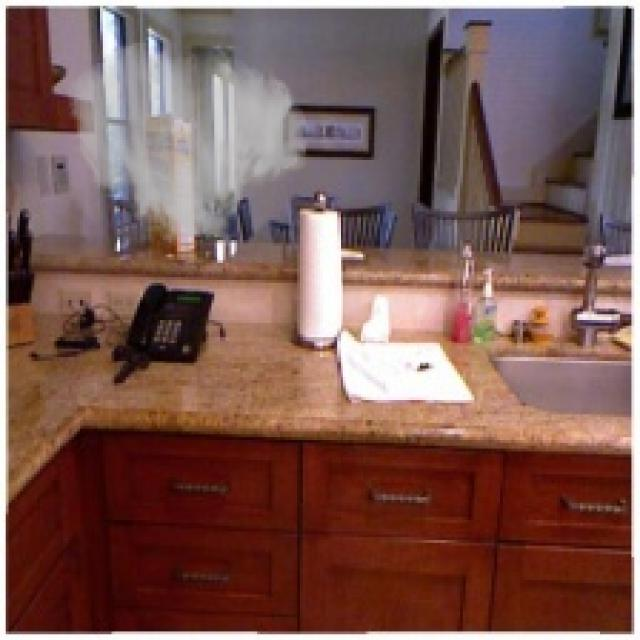smoke: (66, 40, 311, 251)
